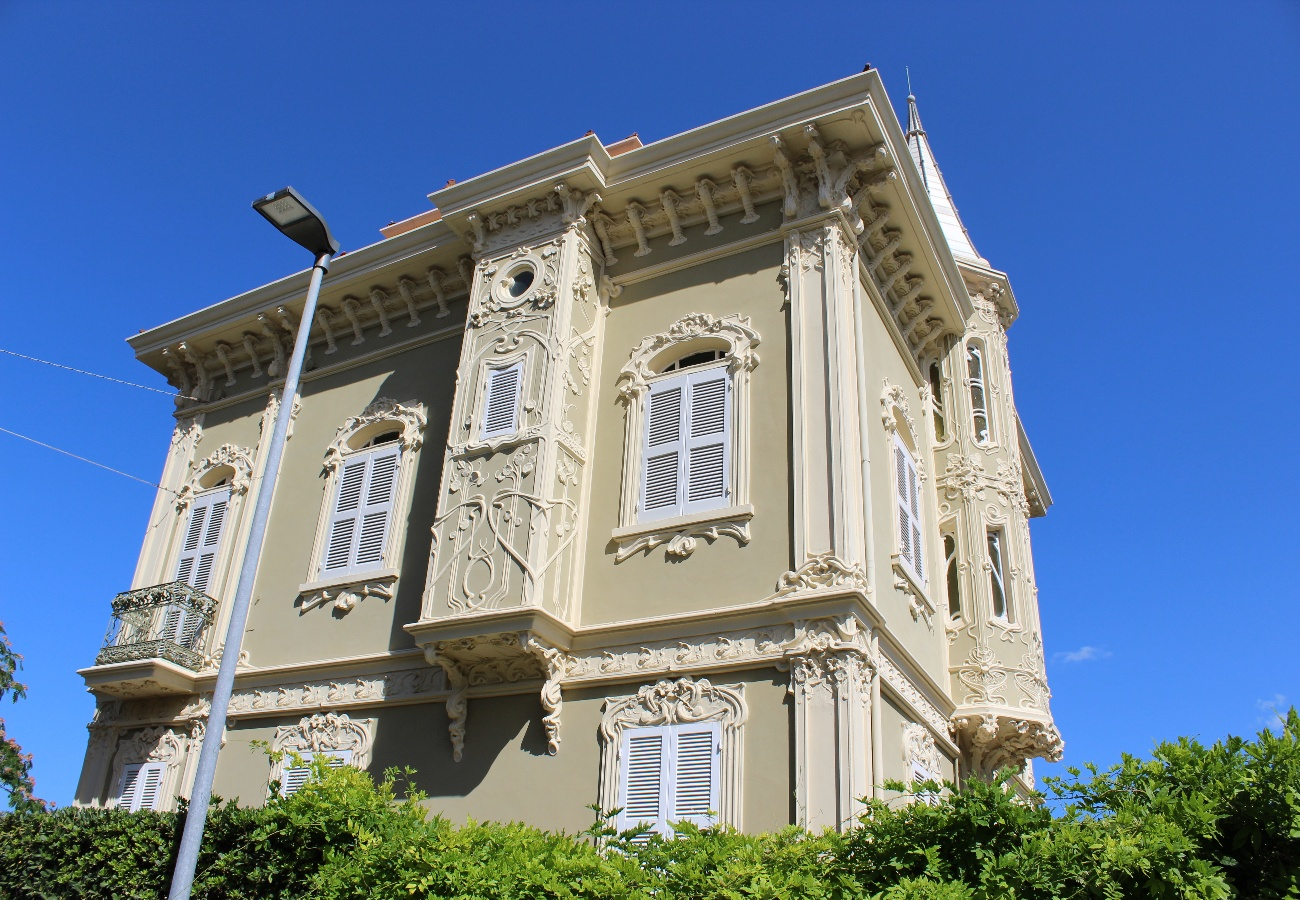Villino Ruggeri: (77, 72, 1053, 827)
